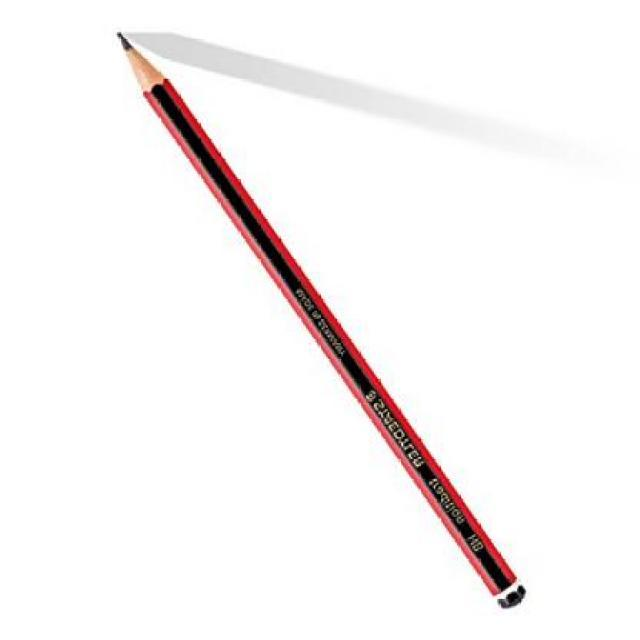pencil: (106, 21, 177, 113)
